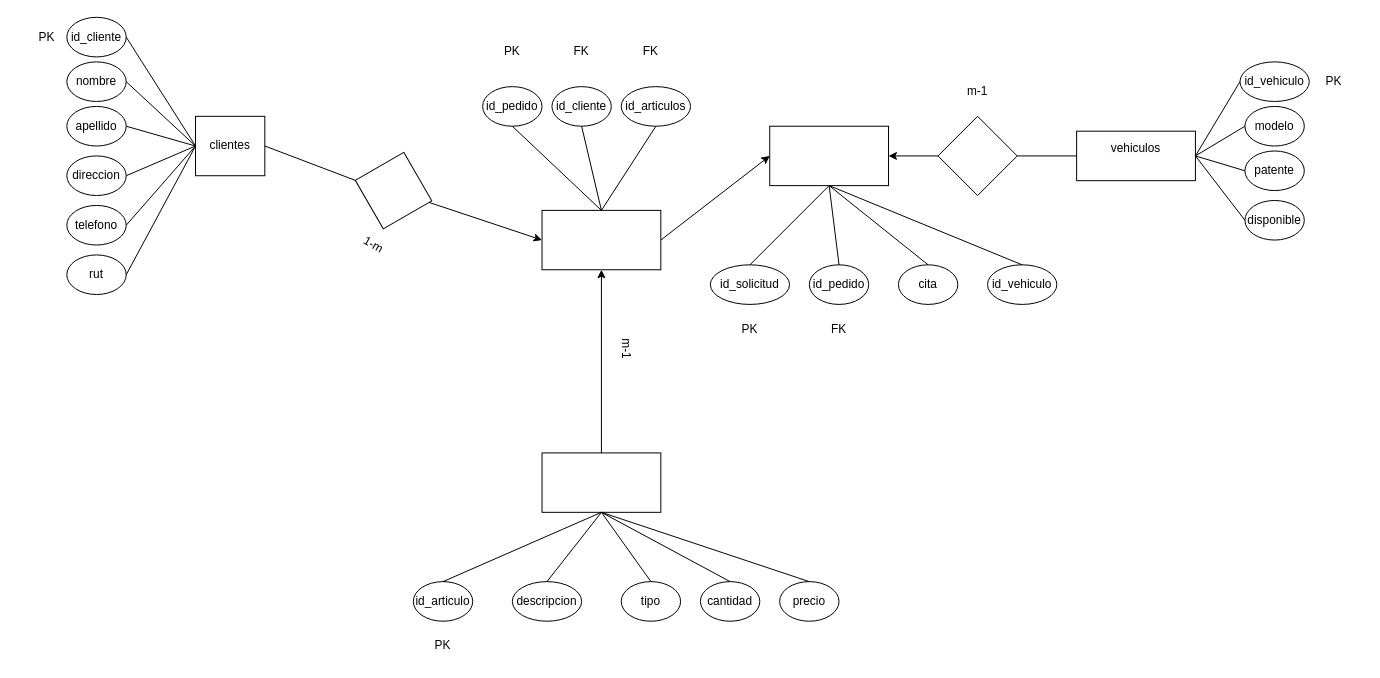
The diagram is 1380 pixels wide and 678 high, and some of its shapes have lost their labels. The shapes that lost their labels are listed below. From the top down, each one's centre as x and y in pixels, then its label:
At point (829, 155): "solicitudes".
At point (977, 155): "realizan".
At point (393, 190): "realiza".
At point (601, 239): "pedido".
At point (601, 482): "articulos".
